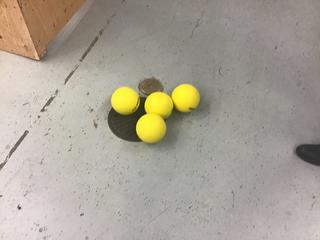power_cell: (137, 113, 169, 145), (173, 84, 199, 118), (115, 84, 141, 112), (144, 93, 170, 119)
